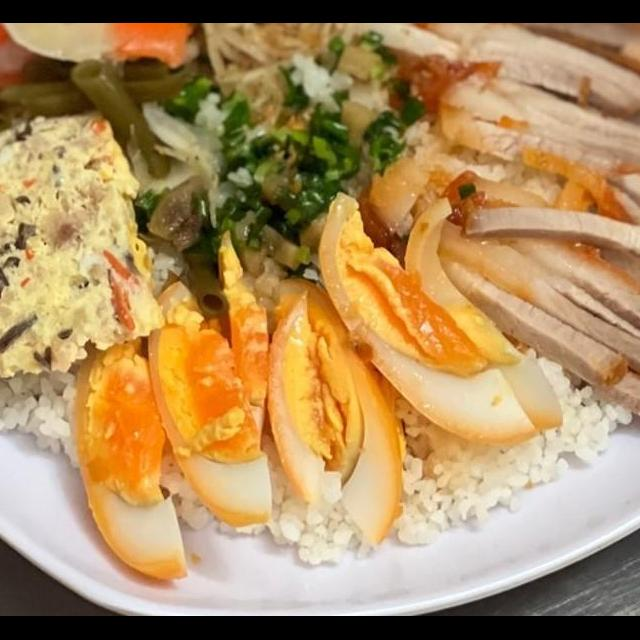bi: (198, 24, 377, 162)
cha: (0, 105, 169, 392)
com: (387, 386, 637, 554), (258, 454, 378, 572), (0, 357, 88, 474)
com suon bi cha trung: (0, 63, 640, 616)
dua chua: (0, 24, 221, 184)
suon: (390, 24, 640, 438)
trung: (319, 188, 566, 450), (268, 260, 407, 533), (52, 335, 197, 587), (139, 266, 271, 523)
